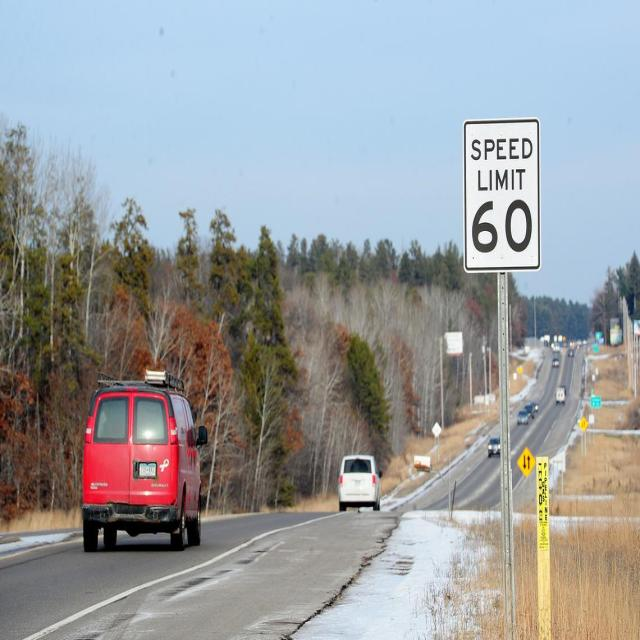speedLimit60: (470, 129, 537, 258)
